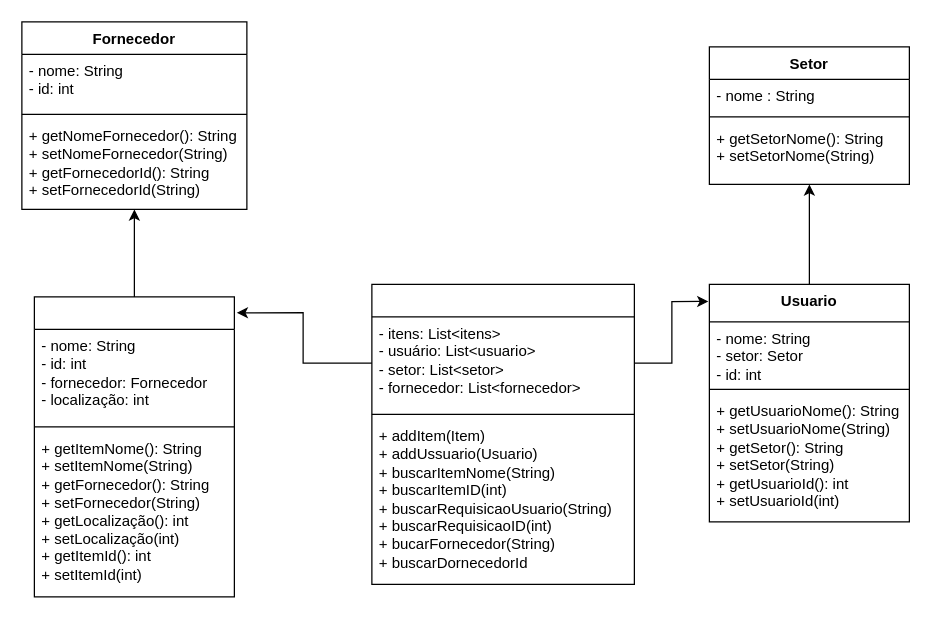
The diagram is 931 pixels wide and 623 high, and some of its shapes have lost their labels. Here are the shapes that lost their labels. From the top down, the box of each, then its label:
(33, 296, 234, 597): Itens
(371, 283, 634, 584): Almoxarifado
